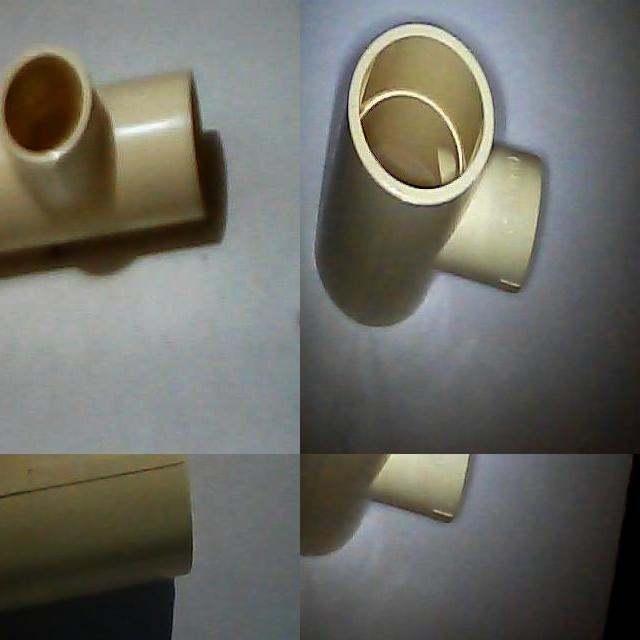T Joint: (314, 22, 547, 332), (0, 45, 214, 254), (300, 454, 474, 560)
